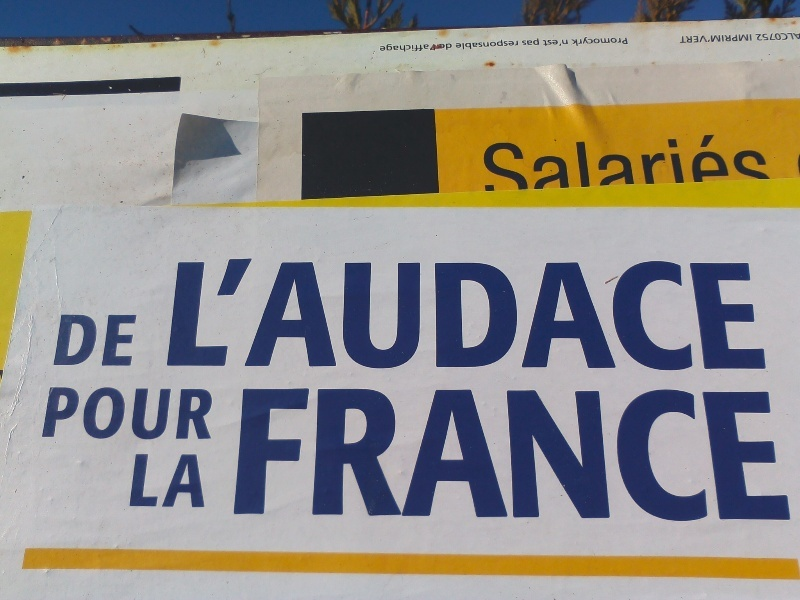text: (241, 383, 256, 524), (257, 383, 272, 524), (273, 383, 288, 524), (289, 383, 304, 524), (305, 383, 320, 524), (321, 383, 336, 524), (337, 383, 352, 524), (353, 383, 368, 524), (369, 383, 384, 524), (385, 383, 400, 524), (401, 383, 416, 524), (417, 383, 432, 524), (433, 383, 448, 524), (449, 383, 464, 524), (465, 383, 480, 524), (481, 383, 496, 524), (497, 383, 512, 524), (513, 383, 528, 524), (529, 383, 544, 524), (545, 383, 560, 524), (561, 383, 576, 524), (577, 383, 592, 524), (593, 383, 608, 524), (609, 383, 624, 524), (625, 383, 640, 524), (641, 383, 656, 524), (657, 383, 672, 524), (673, 383, 688, 524), (689, 383, 704, 524), (705, 383, 720, 524), (721, 383, 736, 524), (737, 383, 752, 524), (753, 383, 768, 524), (769, 383, 784, 524), (753, 256, 769, 374), (177, 256, 192, 374), (193, 256, 208, 374), (209, 256, 224, 374), (225, 256, 240, 374), (241, 256, 256, 374), (257, 256, 272, 374), (273, 256, 288, 374), (289, 256, 304, 374), (305, 256, 320, 374), (321, 256, 336, 374), (337, 256, 352, 374), (353, 256, 368, 374), (369, 256, 384, 374), (385, 256, 400, 374), (401, 256, 416, 374), (417, 256, 432, 374), (433, 256, 448, 374), (449, 256, 464, 374), (465, 256, 480, 374), (481, 256, 496, 374), (497, 256, 512, 374), (513, 256, 528, 374), (529, 256, 544, 374), (545, 256, 560, 374), (561, 256, 576, 374), (577, 256, 592, 374), (593, 256, 608, 374), (609, 256, 624, 374), (625, 256, 640, 374), (641, 256, 656, 374), (657, 256, 672, 374), (673, 256, 688, 374), (689, 256, 704, 374), (705, 256, 720, 374), (721, 256, 736, 374), (737, 256, 752, 374), (785, 383, 793, 524), (481, 126, 496, 198), (497, 126, 512, 198), (513, 126, 528, 198), (529, 126, 544, 198), (545, 126, 560, 198), (561, 126, 576, 198), (577, 126, 592, 198), (593, 126, 608, 198), (609, 126, 624, 198), (625, 126, 640, 198), (641, 126, 656, 198), (657, 126, 672, 198), (673, 126, 688, 198), (689, 126, 704, 198), (705, 126, 720, 198), (721, 126, 736, 198), (737, 126, 752, 198), (753, 126, 768, 198), (49, 384, 64, 444), (65, 384, 80, 444), (81, 384, 96, 444), (97, 384, 112, 444), (113, 384, 128, 444), (129, 384, 144, 444), (145, 384, 160, 444), (161, 384, 176, 444), (177, 384, 192, 444), (193, 384, 208, 444), (145, 451, 160, 511), (161, 451, 176, 511), (177, 451, 192, 511), (769, 126, 781, 198), (65, 313, 80, 368), (81, 313, 96, 368), (97, 313, 112, 368), (113, 313, 128, 368), (193, 451, 206, 511), (132, 451, 144, 511), (129, 313, 138, 368), (209, 384, 214, 444), (465, 37, 480, 52), (481, 37, 496, 52), (497, 37, 512, 52), (477, 126, 480, 198), (577, 34, 592, 48), (593, 34, 608, 48), (609, 34, 624, 48), (45, 384, 48, 444), (385, 42, 400, 54), (401, 42, 416, 54), (769, 31, 784, 43), (785, 31, 800, 43), (737, 33, 753, 44), (417, 42, 431, 54), (61, 313, 64, 368), (453, 37, 464, 52), (689, 33, 704, 44), (705, 33, 720, 44), (721, 33, 736, 44), (755, 31, 768, 43), (433, 43, 448, 52), (545, 39, 560, 47), (529, 37, 541, 47), (513, 37, 521, 52), (679, 33, 688, 44), (561, 39, 571, 47), (520, 37, 528, 47), (625, 34, 630, 48), (380, 42, 384, 54), (449, 43, 453, 52), (574, 34, 576, 48), (542, 39, 544, 47)
